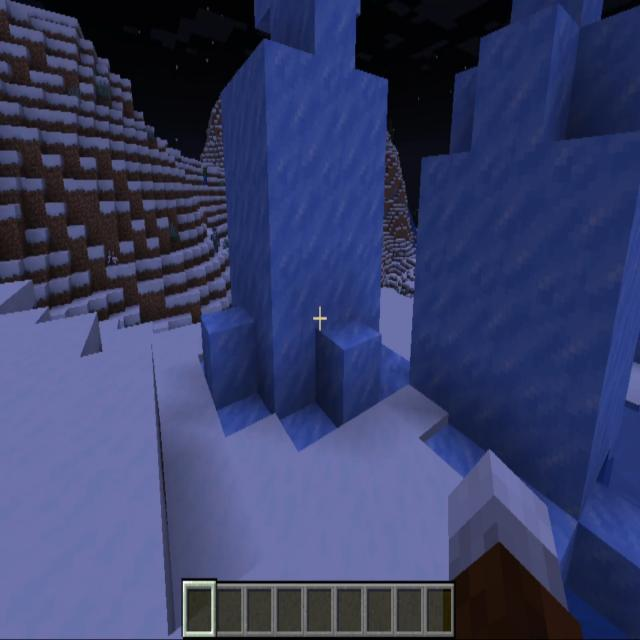Rabbit: (106, 245, 123, 267)
Skeleton: (210, 228, 220, 251)
Zombie: (204, 167, 209, 186)
